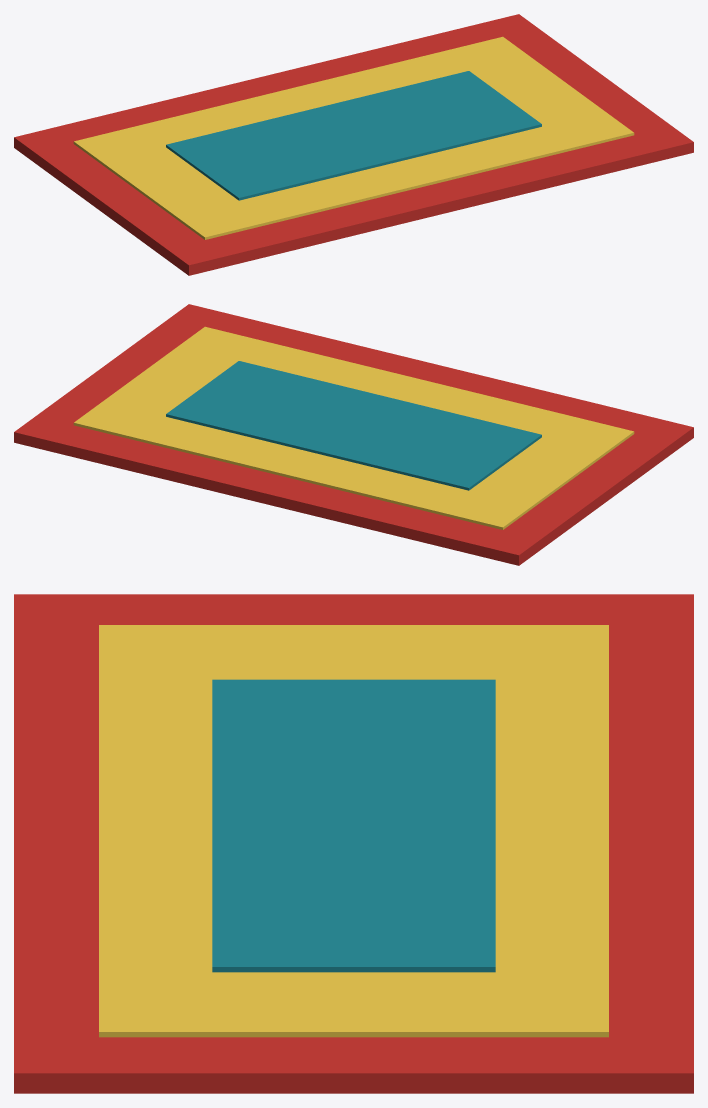
File: woven_rug.fbx
3 views of the same model, one above another, from view 1: azimuth 30°, elevation 25°; view 2: azimuth 150°, elevation 25°; view 3: azimuth 270°, elevation 25° (orthographic). The views are drawn at different scales.
Visible parts, largest first — view 1: woven_rug; view 2: woven_rug; view 3: woven_rug.
Part boxes in pixels (x1,y1,x2,y2): woven_rug: (14, 14, 693, 275); woven_rug: (14, 304, 693, 565); woven_rug: (14, 594, 693, 1093).
Bounding box in the file's own units: 2 × 0.06 × 1.2.
